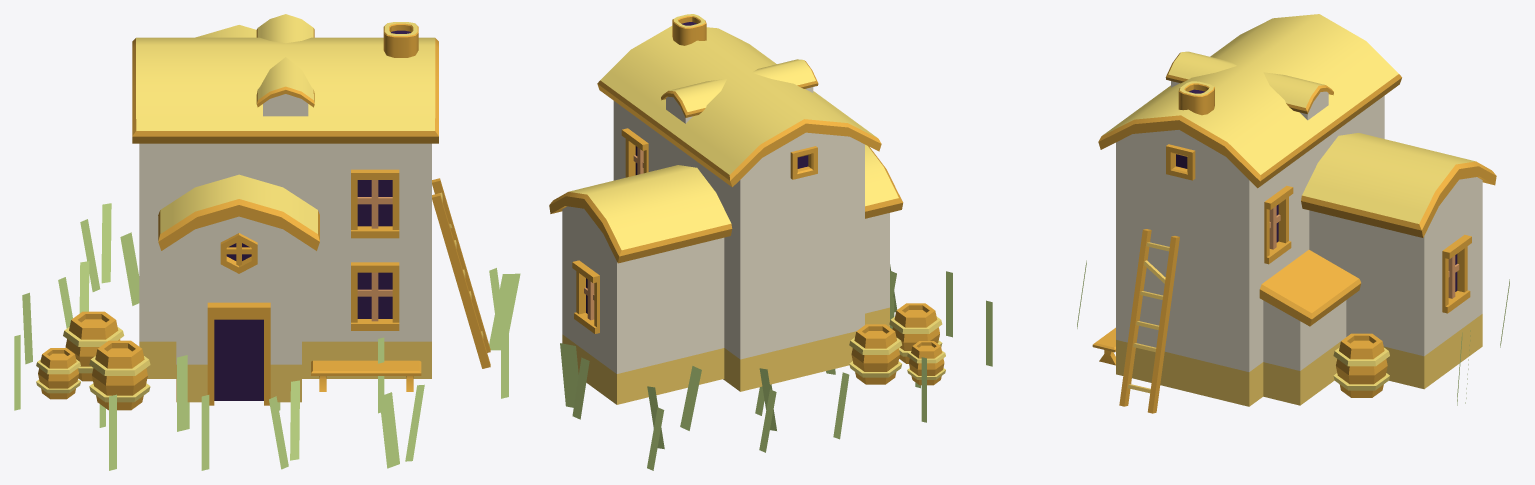
Rendered from M_Farmhouse.fbx.
3 views of the same model, side by side, from view 1: azimuth 30°, elevation 25°; view 2: azimuth 150°, elevation 25°; view 3: azimuth 270°, elevation 25° (orthographic). The views are drawn at different scales.
Parts seen in each view (by area): view 1: M_Farmhouse; view 2: M_Farmhouse; view 3: M_Farmhouse.
Part boxes in pixels (x1,y1,x2,y2): M_Farmhouse: (14,14,520,470); M_Farmhouse: (549,14,992,470); M_Farmhouse: (1077,14,1509,413).
Bounding box in the file's own units: 1.46 × 1.09 × 1.48.
